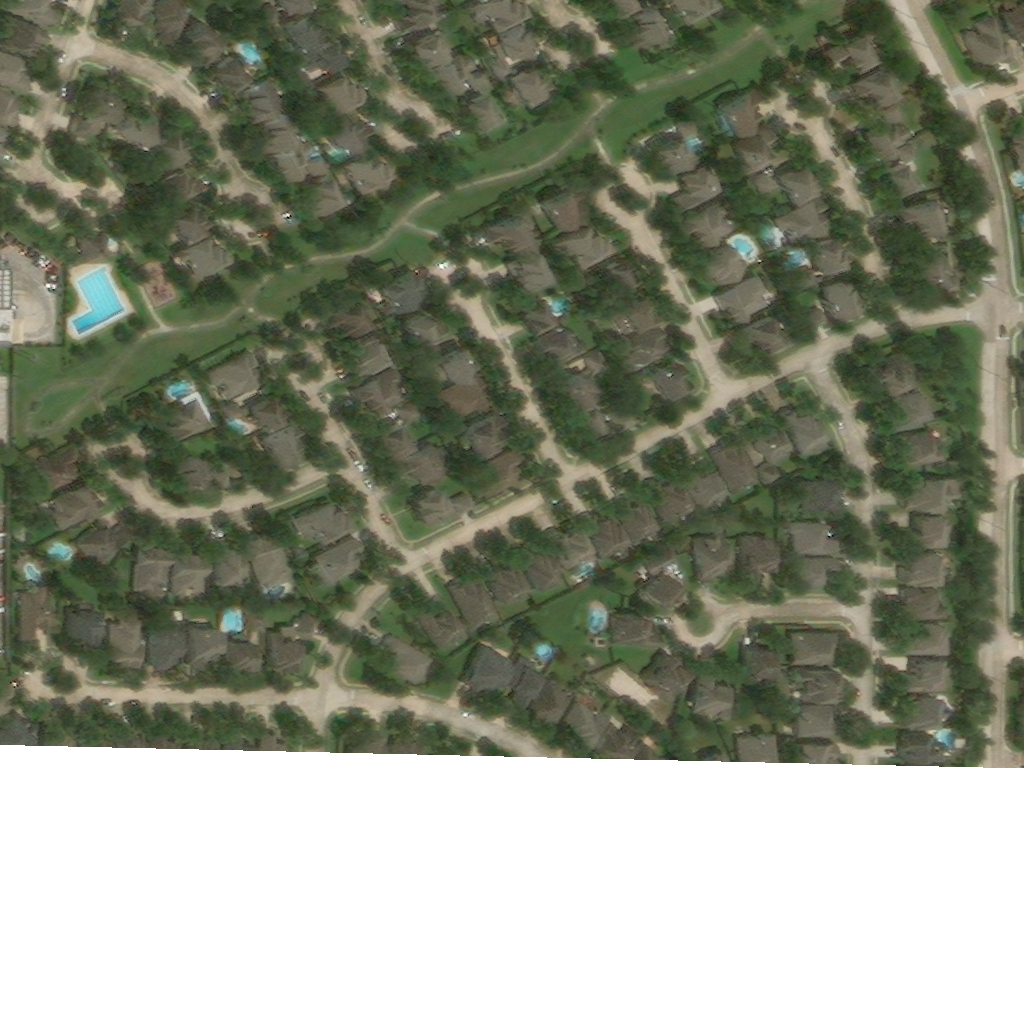no_damage: (245, 533, 300, 596), (594, 287, 659, 338), (267, 612, 324, 670), (313, 534, 370, 591), (262, 7, 330, 52), (574, 401, 640, 446), (206, 351, 262, 404), (641, 648, 693, 705), (560, 351, 612, 408), (647, 119, 701, 173), (711, 438, 760, 497), (72, 85, 120, 144), (547, 520, 598, 575), (748, 419, 788, 489), (374, 401, 422, 459), (414, 601, 467, 653), (383, 632, 434, 685), (408, 16, 461, 67), (74, 524, 134, 569), (450, 579, 499, 634), (166, 393, 215, 448), (32, 444, 80, 500), (391, 443, 453, 486), (490, 23, 535, 82), (52, 483, 103, 535), (294, 503, 354, 547), (690, 531, 736, 588), (223, 388, 284, 430), (679, 461, 730, 511), (781, 409, 832, 459), (269, 139, 331, 180), (436, 375, 490, 422), (716, 276, 771, 322), (357, 370, 412, 416), (555, 223, 611, 268), (431, 53, 492, 94), (685, 200, 736, 249), (732, 126, 779, 178), (411, 343, 472, 383), (639, 545, 680, 603), (293, 37, 347, 81), (475, 447, 518, 502), (902, 473, 961, 513), (822, 29, 878, 71), (623, 325, 670, 375), (697, 239, 749, 284), (583, 513, 630, 562), (677, 164, 724, 213), (966, 15, 1012, 65), (534, 326, 590, 367), (774, 153, 819, 204), (0, 13, 51, 58), (884, 393, 937, 436), (378, 268, 423, 318), (847, 63, 899, 106), (529, 681, 578, 726), (182, 16, 225, 67), (863, 352, 915, 394), (614, 496, 660, 543), (113, 101, 163, 144), (879, 143, 920, 195), (774, 197, 827, 237), (517, 546, 562, 593), (649, 476, 693, 524), (719, 90, 767, 134), (462, 646, 511, 689), (177, 238, 229, 278), (345, 332, 389, 379), (894, 434, 947, 473), (625, 3, 668, 51), (346, 151, 394, 194), (483, 561, 528, 606), (562, 700, 608, 744), (737, 312, 785, 354), (324, 113, 373, 154), (254, 107, 295, 156), (324, 294, 370, 337), (302, 173, 344, 220), (485, 211, 535, 250), (409, 483, 452, 528), (461, 409, 503, 455), (894, 194, 942, 234), (542, 184, 584, 229), (314, 75, 360, 116), (901, 655, 948, 695), (788, 520, 840, 556), (109, 618, 144, 671), (508, 247, 550, 291), (208, 48, 250, 92), (795, 475, 840, 516), (137, 544, 171, 598), (167, 451, 211, 492), (694, 670, 730, 720), (240, 78, 283, 119), (473, 0, 528, 32), (613, 610, 658, 649), (463, 92, 500, 139), (394, 0, 442, 36), (511, 65, 553, 106), (169, 202, 210, 244), (516, 291, 555, 335), (402, 309, 448, 346), (788, 560, 838, 594), (174, 544, 206, 597), (263, 423, 303, 465), (157, 168, 196, 211), (503, 656, 543, 697), (148, 128, 189, 168), (904, 514, 949, 550), (899, 692, 944, 728), (792, 666, 838, 701), (741, 534, 776, 580), (790, 631, 835, 666), (21, 585, 53, 634), (653, 357, 690, 399), (904, 590, 951, 623), (901, 625, 951, 656), (78, 234, 123, 267), (902, 550, 941, 587), (796, 704, 837, 739), (821, 274, 856, 315), (189, 626, 221, 669), (910, 244, 948, 280), (148, 624, 183, 663), (0, 50, 31, 94), (211, 543, 243, 585), (115, 0, 157, 32), (811, 235, 846, 273), (5, 0, 56, 26), (604, 258, 640, 294), (155, 0, 192, 35), (591, 724, 647, 747), (860, 120, 894, 157), (669, 0, 716, 24), (68, 607, 101, 641), (745, 644, 777, 676), (226, 635, 255, 670), (1004, 118, 1022, 172), (902, 732, 945, 754), (1000, 0, 1022, 43), (737, 725, 772, 750), (0, 86, 20, 127), (0, 681, 17, 720), (454, 492, 478, 518), (0, 713, 31, 733), (755, 173, 779, 198), (0, 265, 8, 336), (806, 308, 830, 331), (606, 0, 637, 17), (883, 104, 907, 125), (940, 272, 961, 295), (248, 611, 265, 636), (797, 741, 839, 751), (11, 316, 23, 344), (43, 720, 66, 734), (279, 0, 309, 10), (357, 732, 385, 741), (220, 727, 240, 738), (258, 729, 278, 739), (116, 725, 135, 735), (151, 729, 167, 736), (188, 729, 200, 737), (0, 143, 4, 159), (0, 127, 4, 141)
